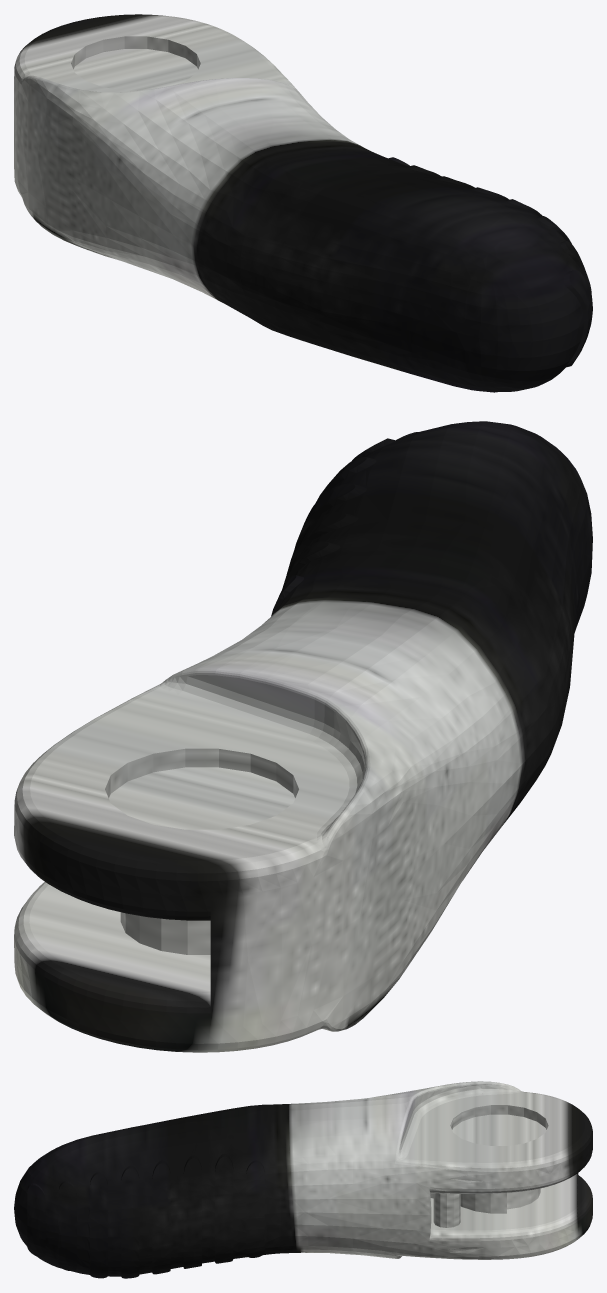
File: middle_finger_distal.obj
3 renders of one model, top to bottom at view 1: azimuth 30°, elevation 25°; view 2: azimuth 150°, elevation 25°; view 3: azimuth 270°, elevation 25°, orthographic. The views are drawn at different scales.
Visible parts, largest first — view 1: Middle_Distal; view 2: Middle_Distal; view 3: Middle_Distal.
Boxes of the visible parts, x1,y1,x2,y2 form: Middle_Distal: (14, 14, 592, 392); Middle_Distal: (14, 421, 592, 1052); Middle_Distal: (14, 1081, 592, 1278).
Size of the model in its own units: 0.0236 by 0.0146 by 0.0564.
1 material, 1 textured.
